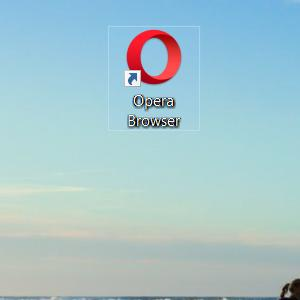opera: (124, 29, 182, 86)
